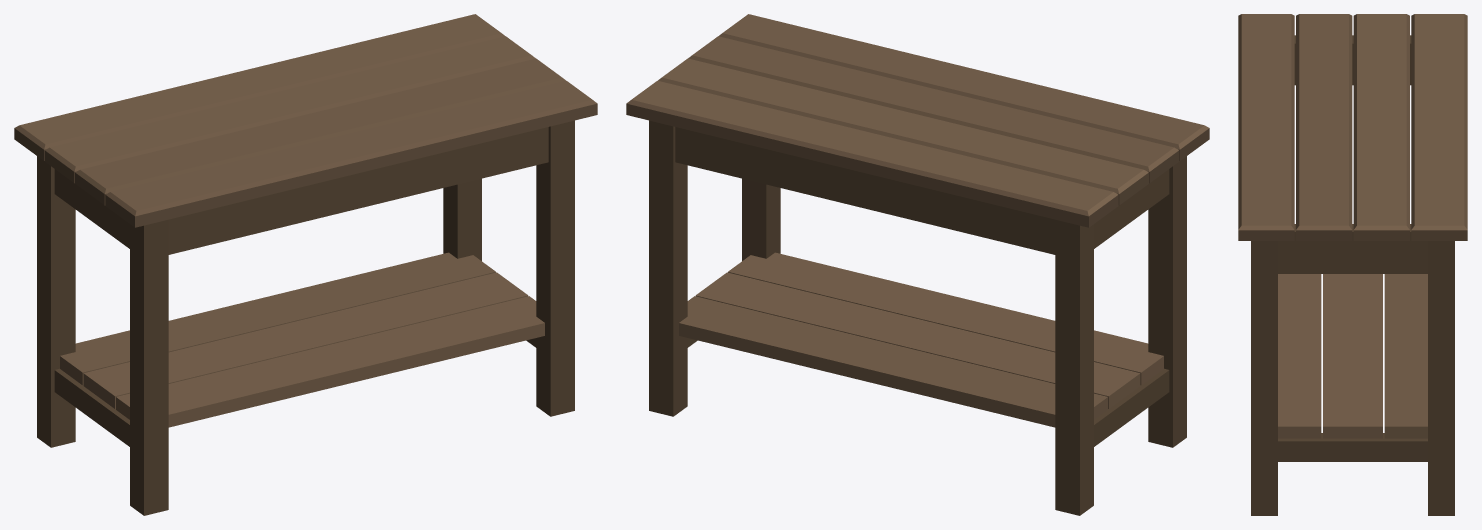
File: prp_0020_v00_table_1300x600x850_none.glb
3 views of the same model, side by side, from view 1: azimuth 30°, elevation 25°; view 2: azimuth 150°, elevation 25°; view 3: azimuth 270°, elevation 25° (orthographic). The views are drawn at different scales.
Parts seen in each view (by area): view 1: asset__detail_vertex_wood; view 2: asset__detail_vertex_wood; view 3: asset__detail_vertex_wood.
Part boxes in pixels (left/top/right/bottom): asset__detail_vertex_wood: left=14, top=14, right=597, bottom=515; asset__detail_vertex_wood: left=626, top=14, right=1209, bottom=515; asset__detail_vertex_wood: left=1238, top=14, right=1467, bottom=515.
Size of the model in its own units: 1.32 by 0.85 by 0.597.
